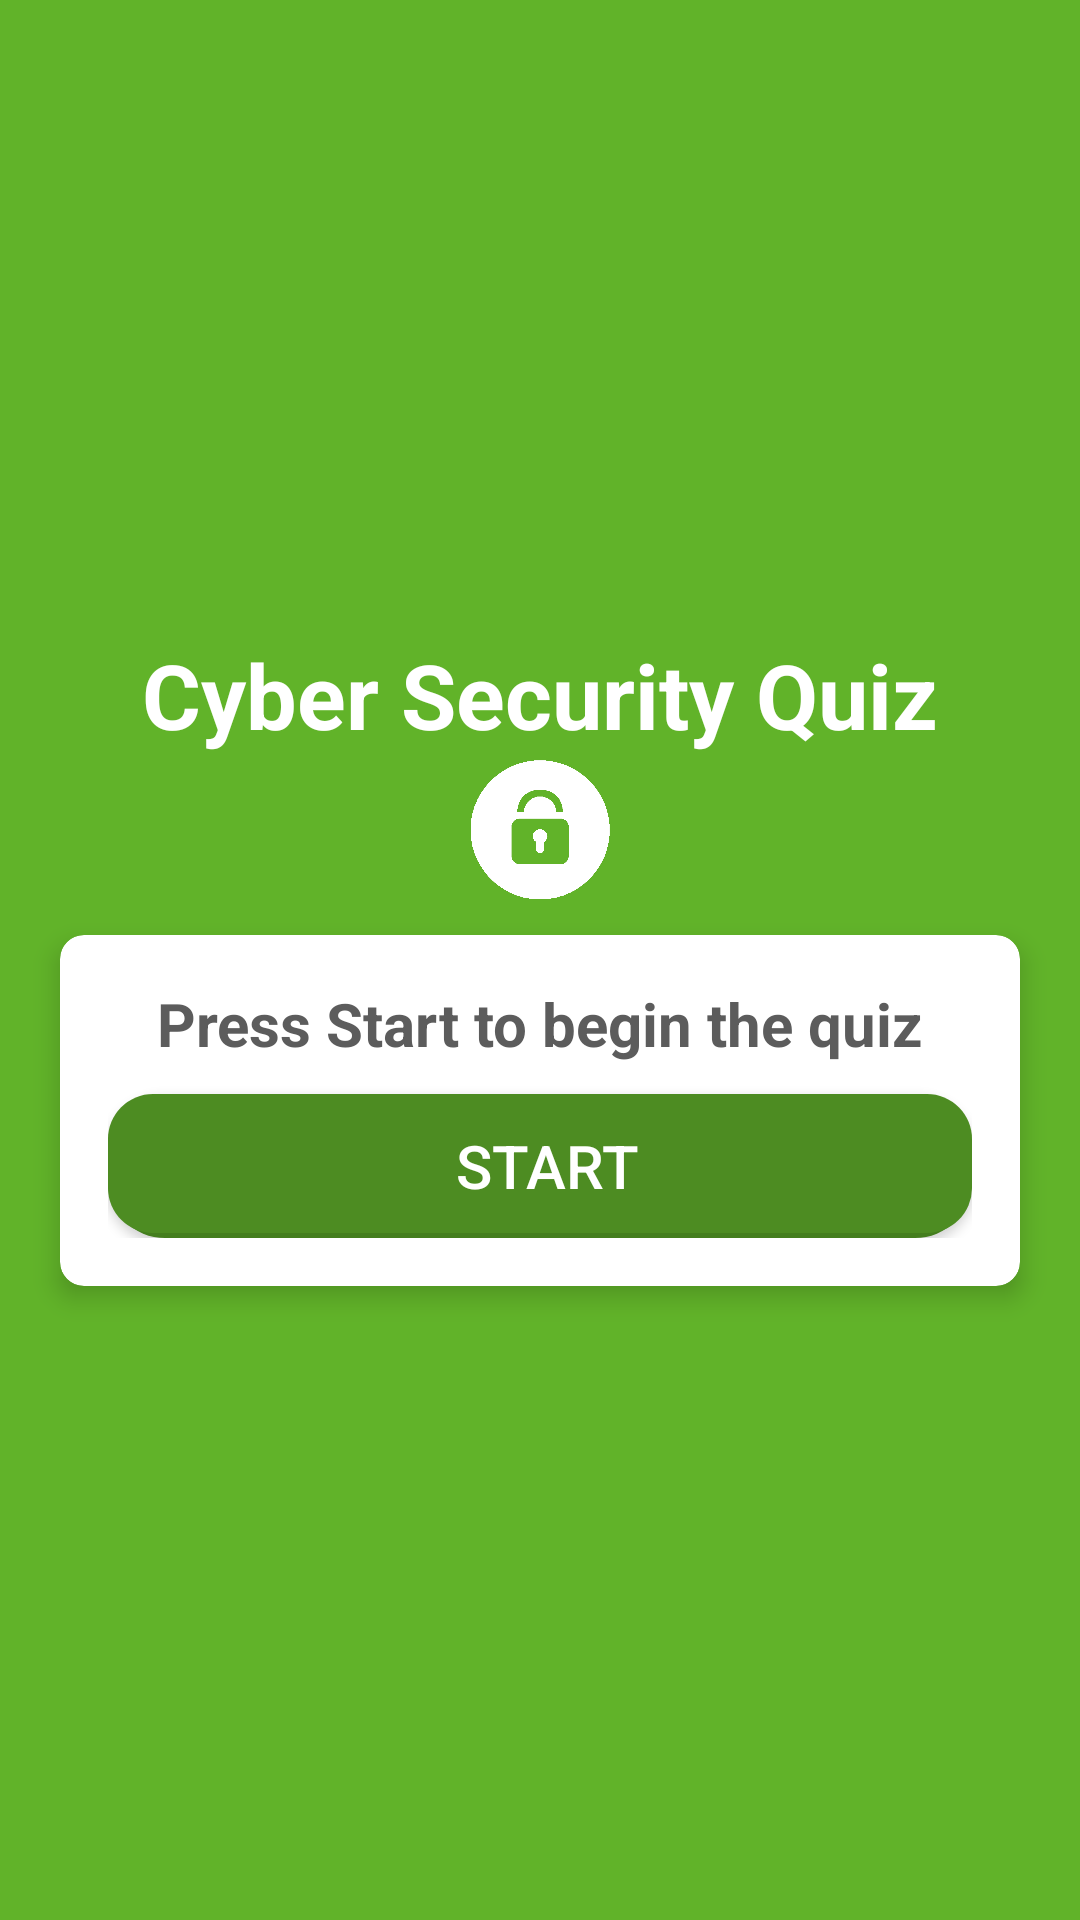

Icon bounding boxes for this 1080px x 1920px phone screenshot, format Rect(x1, y1, x2, y2):
lockwhite: Rect(471, 760, 610, 899)
